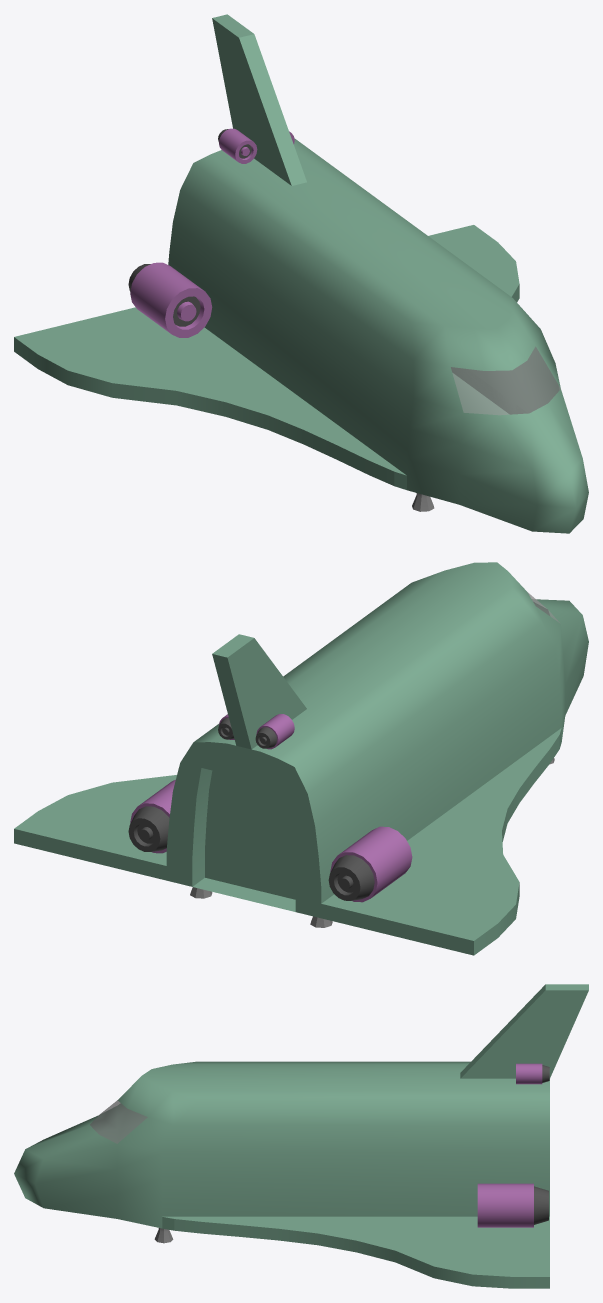
The model's file is spaceship.fbx.
The picture shows the model from 3 angles, top to bottom: view 1: azimuth 30°, elevation 25°; view 2: azimuth 150°, elevation 25°; view 3: azimuth 270°, elevation 25°; orthographic projection. The views are drawn at different scales.
Visible parts, largest first — view 1: body, wing_r, fin, engine2, wing_l, engine3; view 2: body, wing_r, wing_l, fin, engine2, engine1, engine3; view 3: body, wing_l, fin, engine1, engine4.
Boxes of the visible parts, x1,y1,x2,y2 form: body: (168,138,588,533); wing_r: (14,307,406,489); fin: (212,14,306,185); engine2: (128,262,212,337); wing_l: (428,225,527,413); engine3: (218,128,257,163); body: (166,562,588,918); wing_r: (321,728,561,955); wing_l: (14,775,176,880); fin: (212,634,306,749); engine2: (328,826,412,902); engine1: (128,779,175,853); engine3: (255,714,294,749); body: (14,1061,549,1228); wing_l: (162,1216,549,1288); fin: (460,984,588,1078); engine1: (477,1183,548,1227); engine4: (516,1063,549,1084).
Size of the model in its own units: 1195 by 703 by 1604.
